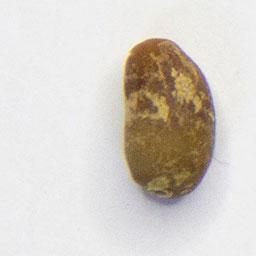defect: (115, 35, 221, 203)
